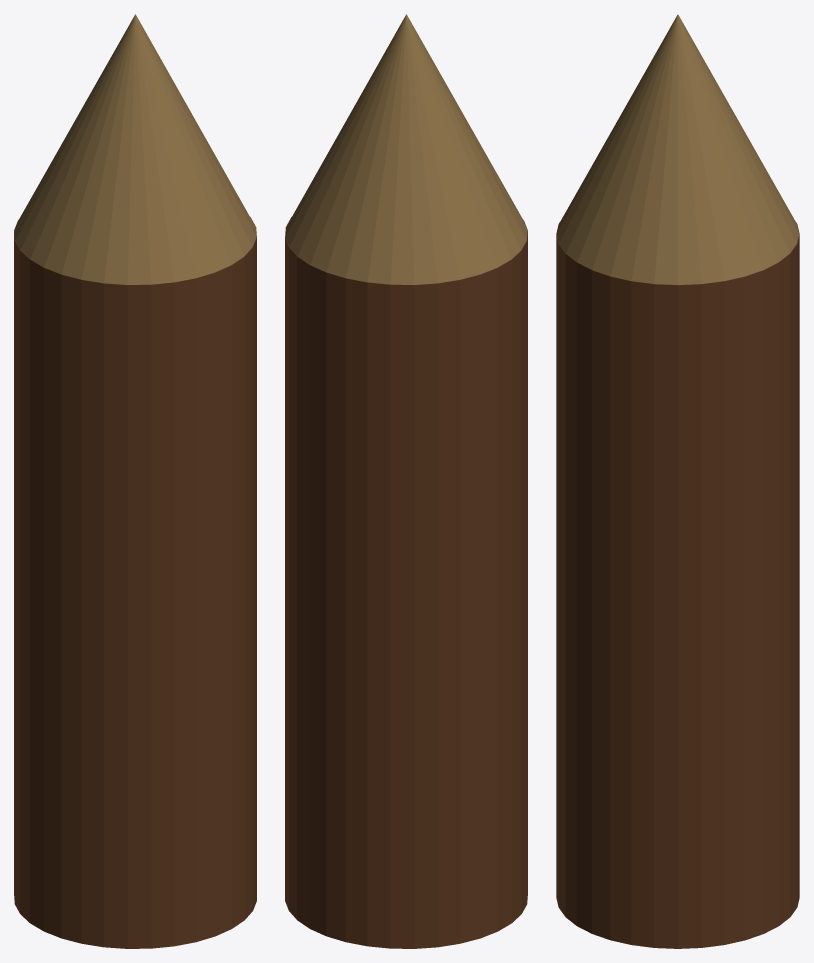
Rendered from WoodSpike.fbx.
3 renders of one model, left to right at view 1: azimuth 30°, elevation 25°; view 2: azimuth 150°, elevation 25°; view 3: azimuth 270°, elevation 25°, orthographic.
Parts seen in each view (by area): view 1: Cone; view 2: Cone; view 3: Cone.
Boxes of the visible parts, x1,y1,x2,y2 form: Cone: (14, 14, 256, 948); Cone: (285, 14, 527, 948); Cone: (556, 14, 799, 948).
Bounding box in the file's own units: 200 × 801 × 200.
